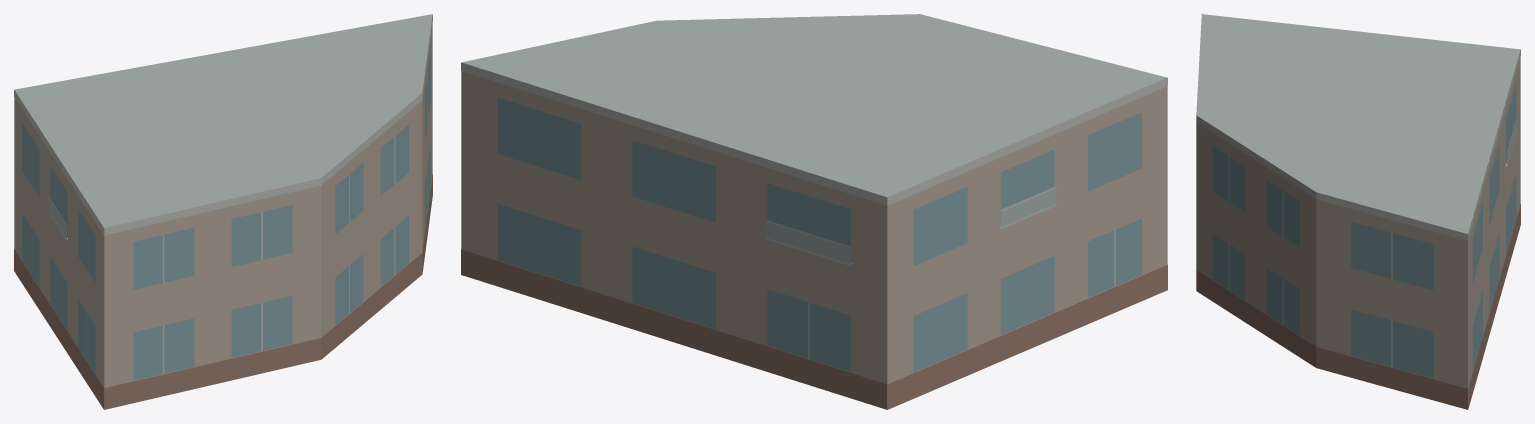
Rendered from survey-upis-32643739.glb.
3 views of the same model, side by side, from view 1: azimuth 30°, elevation 25°; view 2: azimuth 150°, elevation 25°; view 3: azimuth 270°, elevation 25° (orthographic). The views are drawn at different scales.
Visible parts, largest first — view 1: survey-upis-32643739.tmp; view 2: survey-upis-32643739.tmp; view 3: survey-upis-32643739.tmp.
Boxes of the visible parts, box(x1,y1,x2,y2) form: survey-upis-32643739.tmp: box(14, 14, 432, 409); survey-upis-32643739.tmp: box(461, 14, 1167, 409); survey-upis-32643739.tmp: box(1196, 14, 1520, 409).
Size of the model in its own units: 16.4 by 6.1 by 10.22.
